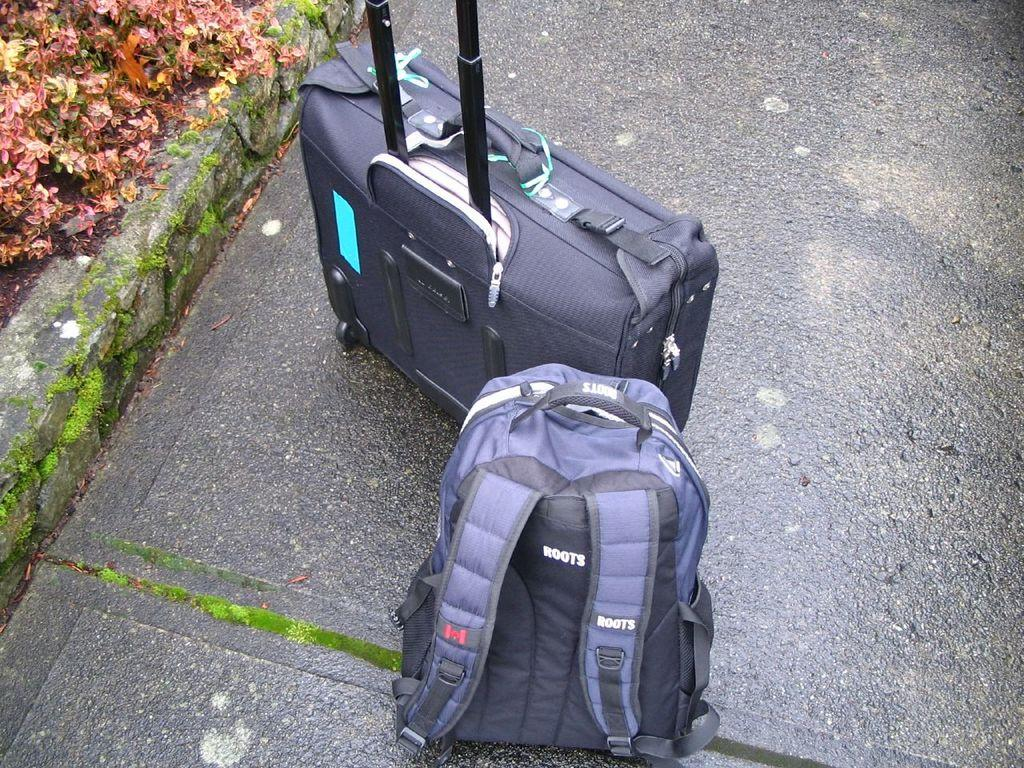Luggage-and-bags: (302, 0, 717, 345), (388, 366, 726, 766)
